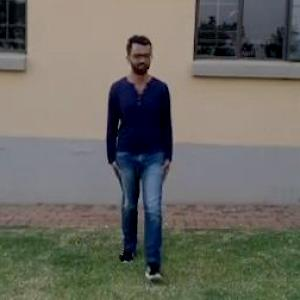follow: (106, 32, 177, 283)
